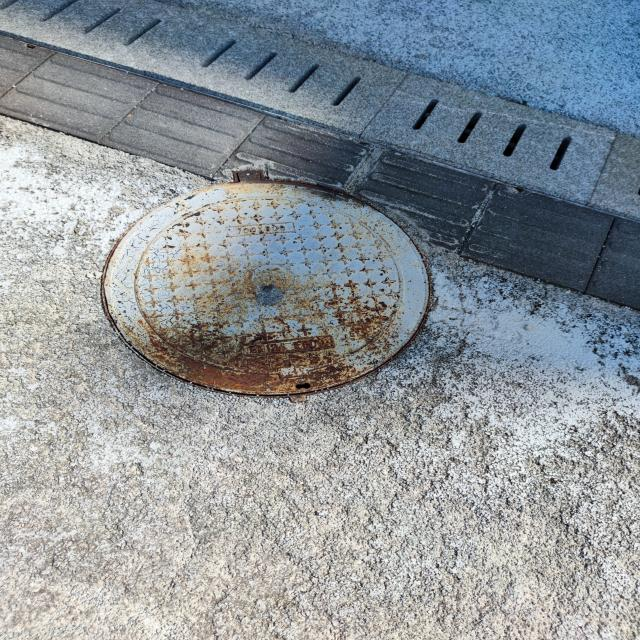Good: (95, 171, 447, 404)
